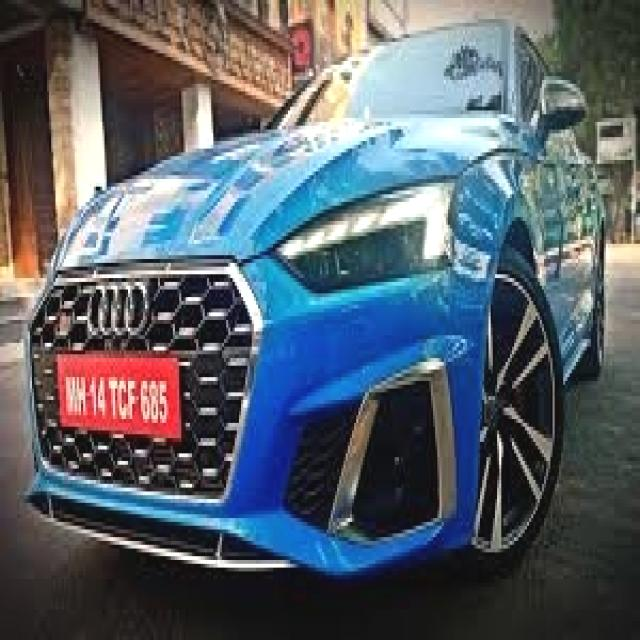blue: (28, 26, 600, 571)
